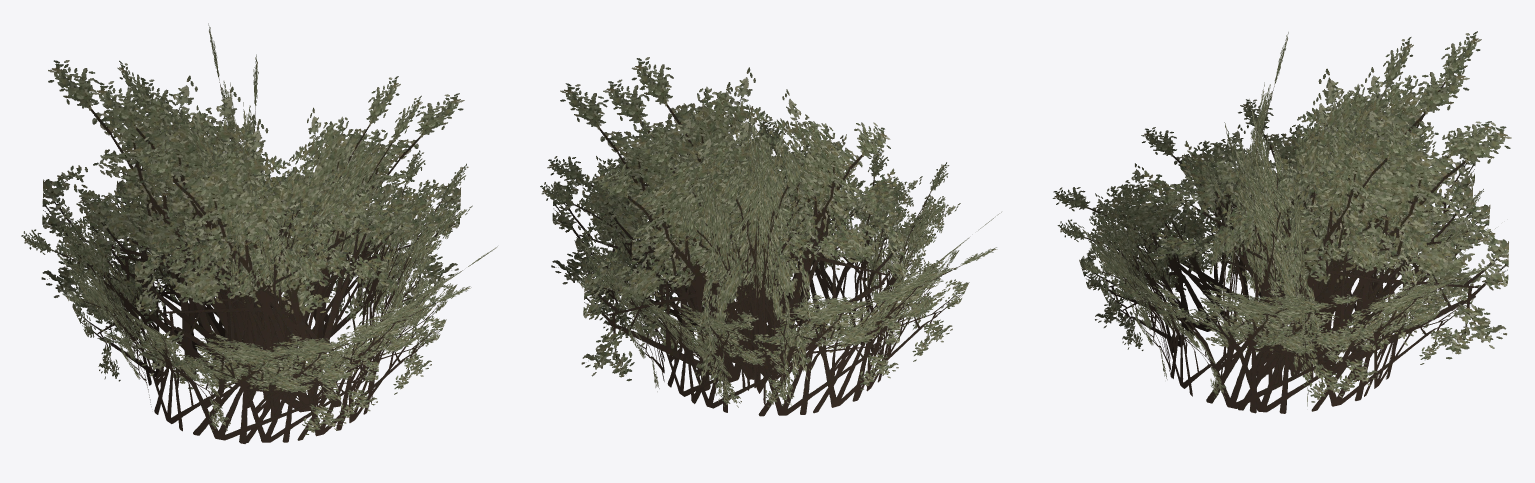
The model's file is shrub.glb.
3 renders of one model, left to right at view 1: azimuth 30°, elevation 25°; view 2: azimuth 150°, elevation 25°; view 3: azimuth 270°, elevation 25°, orthographic. The views are drawn at different scales.
Parts seen in each view (by area): view 1: Shrub; view 2: Shrub; view 3: Shrub.
Boxes of the visible parts, x1,y1,x2,y2 form: Shrub: (21,23,497,443); Shrub: (540,57,1001,416); Shrub: (1052,31,1511,413).
Bounding box in the file's own units: 2.09 × 1.33 × 1.99.
1 material, 1 textured.
